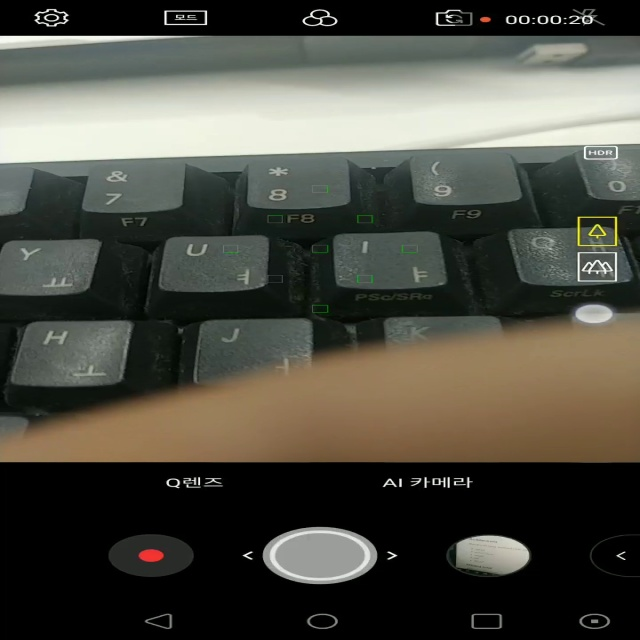Cursor: (574, 304, 618, 326)
